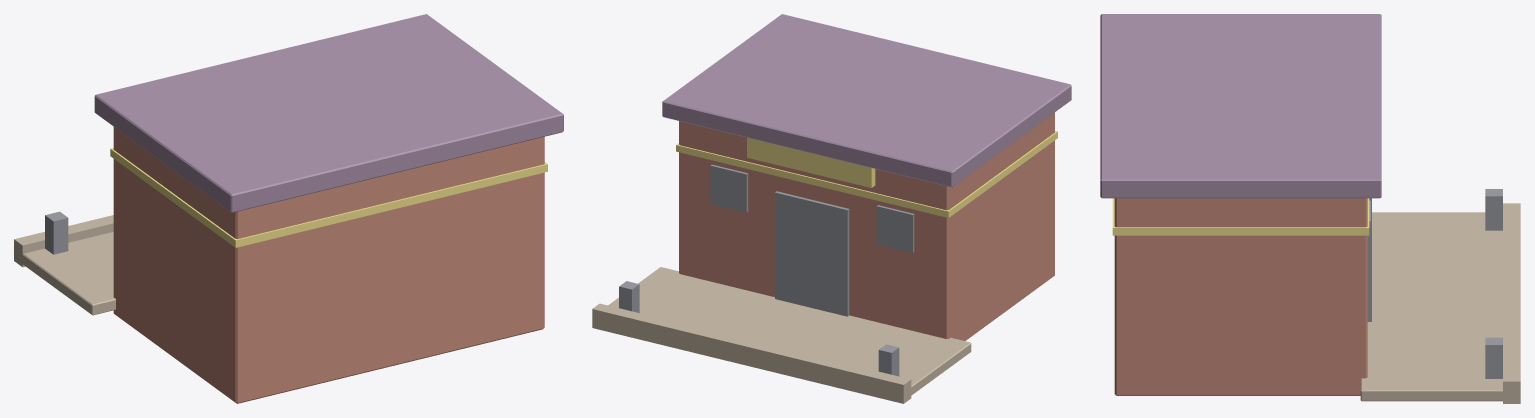
Rendered from port_01.glb.
3 renders of one model, left to right at view 1: azimuth 30°, elevation 25°; view 2: azimuth 150°, elevation 25°; view 3: azimuth 270°, elevation 25°, orthographic. The views are drawn at different scales.
Parts seen in each view (by area): view 1: port_01; view 2: port_01; view 3: port_01.
Boxes of the visible parts, box(x1,y1,x2,y2) form: port_01: box(14, 14, 563, 403); port_01: box(592, 14, 1071, 403); port_01: box(1100, 14, 1520, 403).
Size of the model in its own units: 6 by 3.5 by 5.97.
